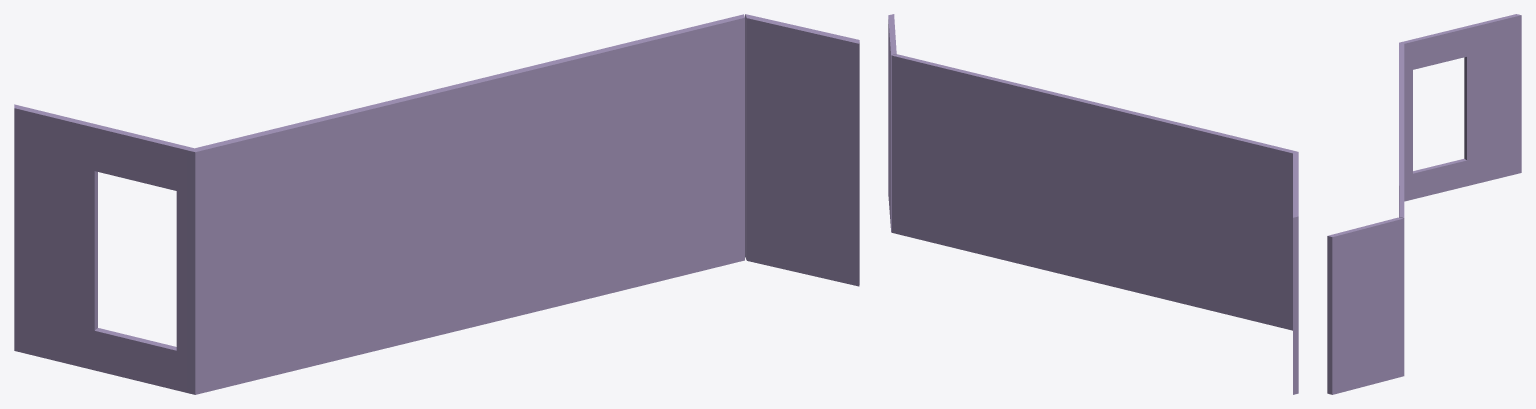
The model's file is MDL_Livingroom_Wall_Splitup.fbx.
3 renders of one model, left to right at view 1: azimuth 30°, elevation 25°; view 2: azimuth 150°, elevation 25°; view 3: azimuth 270°, elevation 25°, orthographic. The views are drawn at different scales.
Parts seen in each view (by area): view 1: MDL_Living_Wall, MDL_Living_Wall.001; view 2: MDL_Living_Wall, MDL_Living_Wall.001; view 3: MDL_Living_Wall, MDL_Living_Wall.001.
Part boxes in pixels (x1,y1,x2,y2): MDL_Living_Wall: (14,14,744,394); MDL_Living_Wall.001: (745,14,859,286); MDL_Living_Wall: (892,54,1298,394); MDL_Living_Wall.001: (888,14,896,232); MDL_Living_Wall: (1399,14,1521,218); MDL_Living_Wall.001: (1327,217,1404,394).
Size of the model in its own units: 1000 by 329 by 367.
